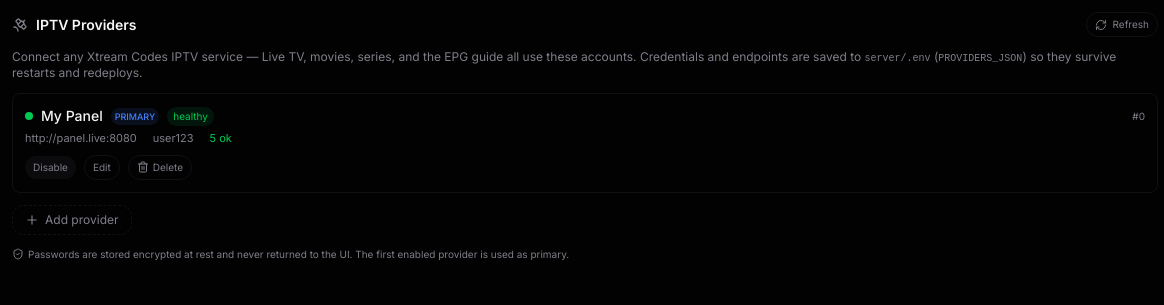
ProviderSettings › deletes a provider after confirmation
Expected: the text "Connect any Xtream Codes IPTV service" is shown, [12,49,861,64]
Click the button "Delete": click(160, 167) [128,155,192,180]
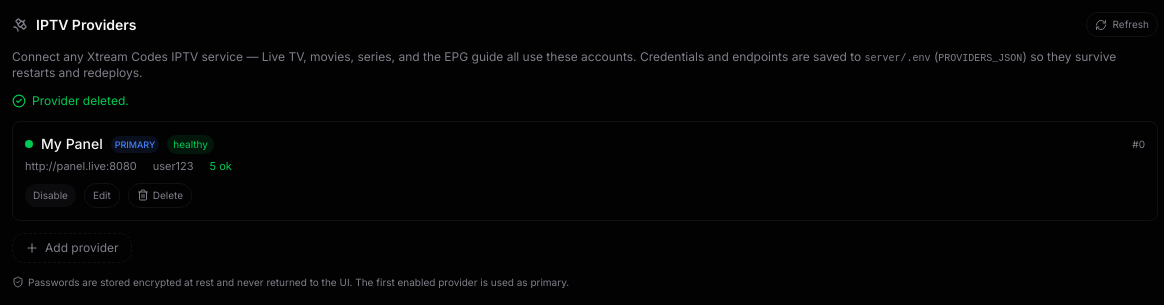
Now the text "Provider deleted." is shown, box [12,93,129,108]
